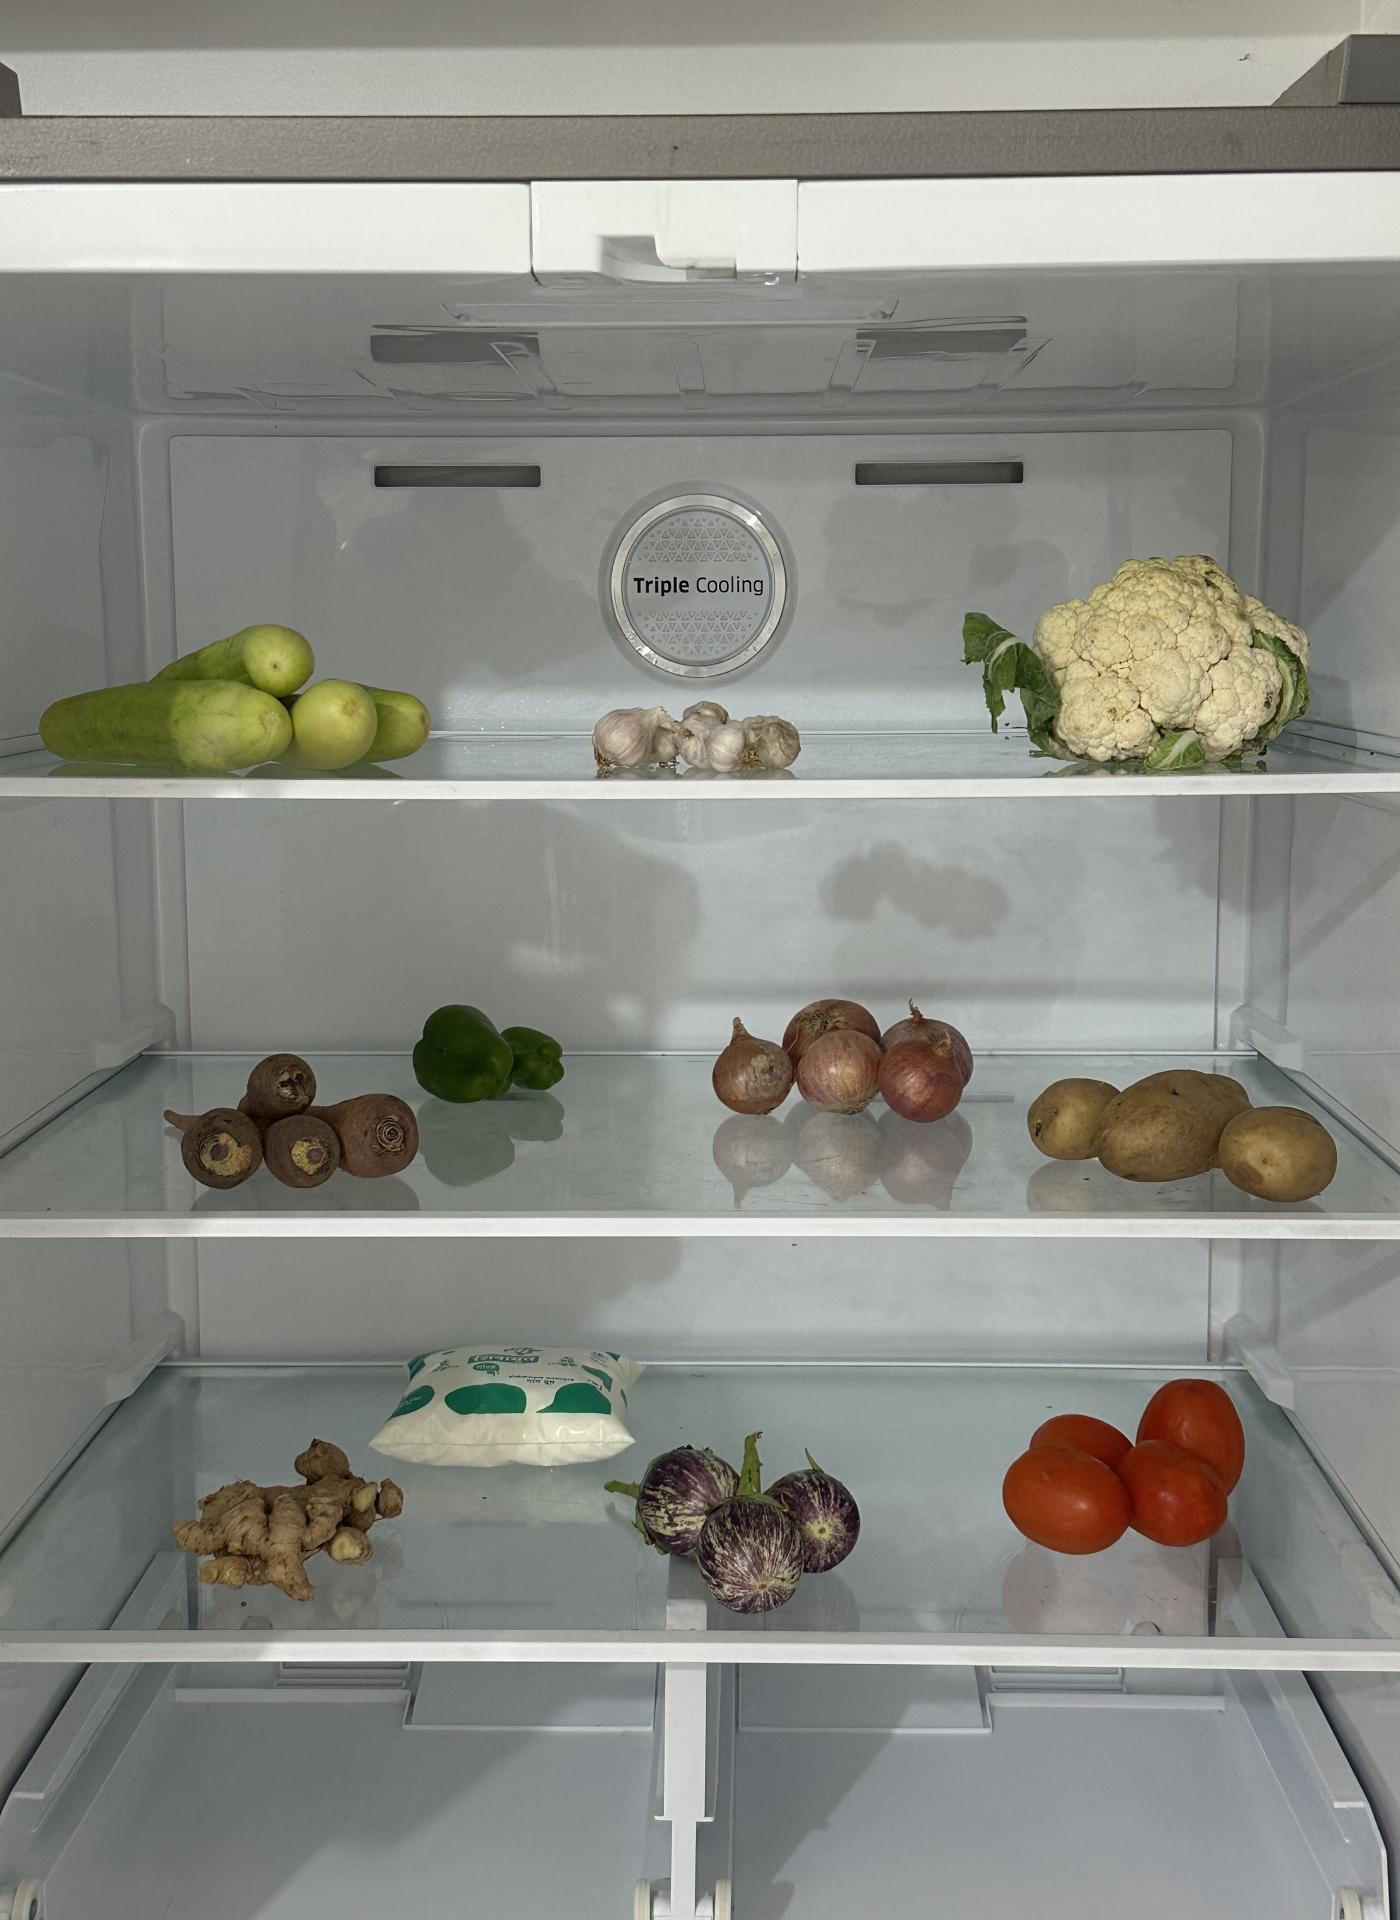capsicum: (407, 991, 568, 1102)
carrots: (157, 1049, 431, 1190)
cauliflower: (1017, 541, 1311, 762)
cucumber: (43, 619, 428, 771)
garlic: (589, 690, 808, 775)
ginger: (182, 1440, 410, 1594)
milk: (367, 1331, 638, 1462)
onion: (707, 984, 978, 1122)
potato: (1024, 1061, 1336, 1201)
